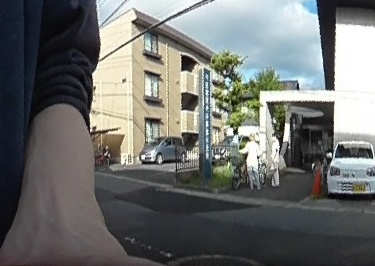person: (241, 134, 264, 190), (268, 130, 281, 187)
